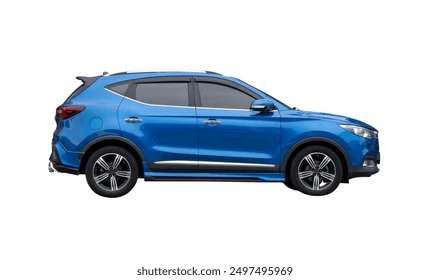car: (47, 67, 391, 197)
